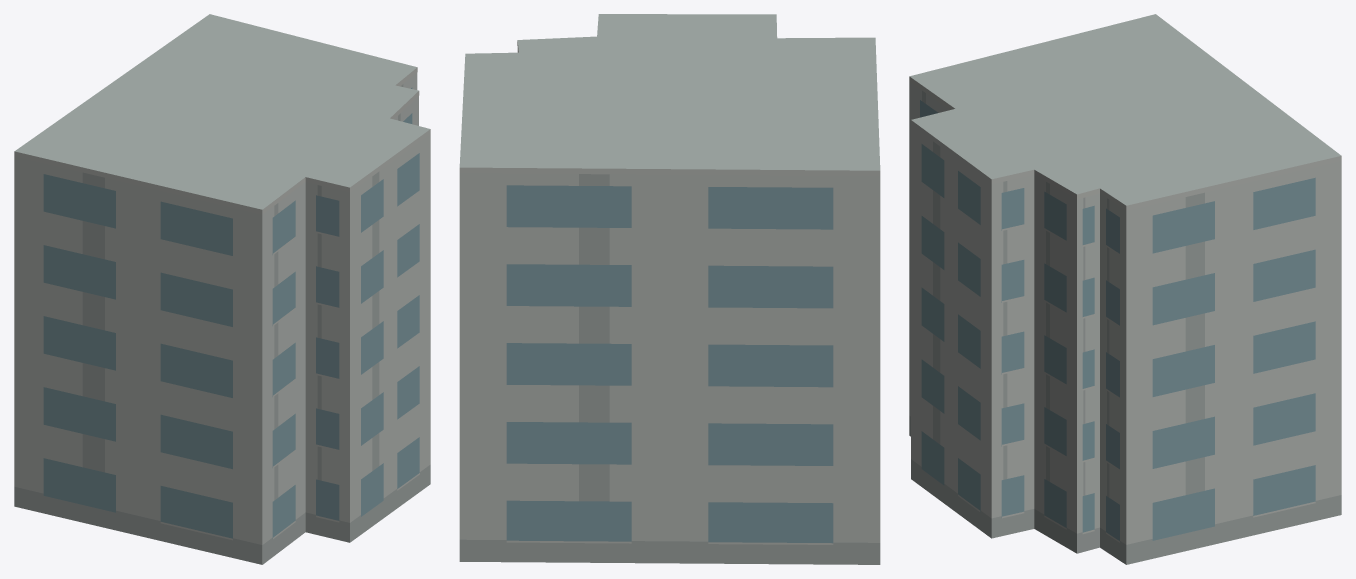
The model's file is survey-upis-32774301.glb.
3 views of the same model, side by side, from view 1: azimuth 30°, elevation 25°; view 2: azimuth 150°, elevation 25°; view 3: azimuth 270°, elevation 25° (orthographic). The views are drawn at different scales.
Parts seen in each view (by area): view 1: survey-upis-32774301.tmp; view 2: survey-upis-32774301.tmp; view 3: survey-upis-32774301.tmp.
Boxes of the visible parts, box(x1,y1,x2,y2) form: survey-upis-32774301.tmp: box(14, 14, 430, 564); survey-upis-32774301.tmp: box(459, 14, 880, 564); survey-upis-32774301.tmp: box(909, 14, 1341, 564).
Bounding box in the file's own units: 19.59 × 17.1 × 18.66.
